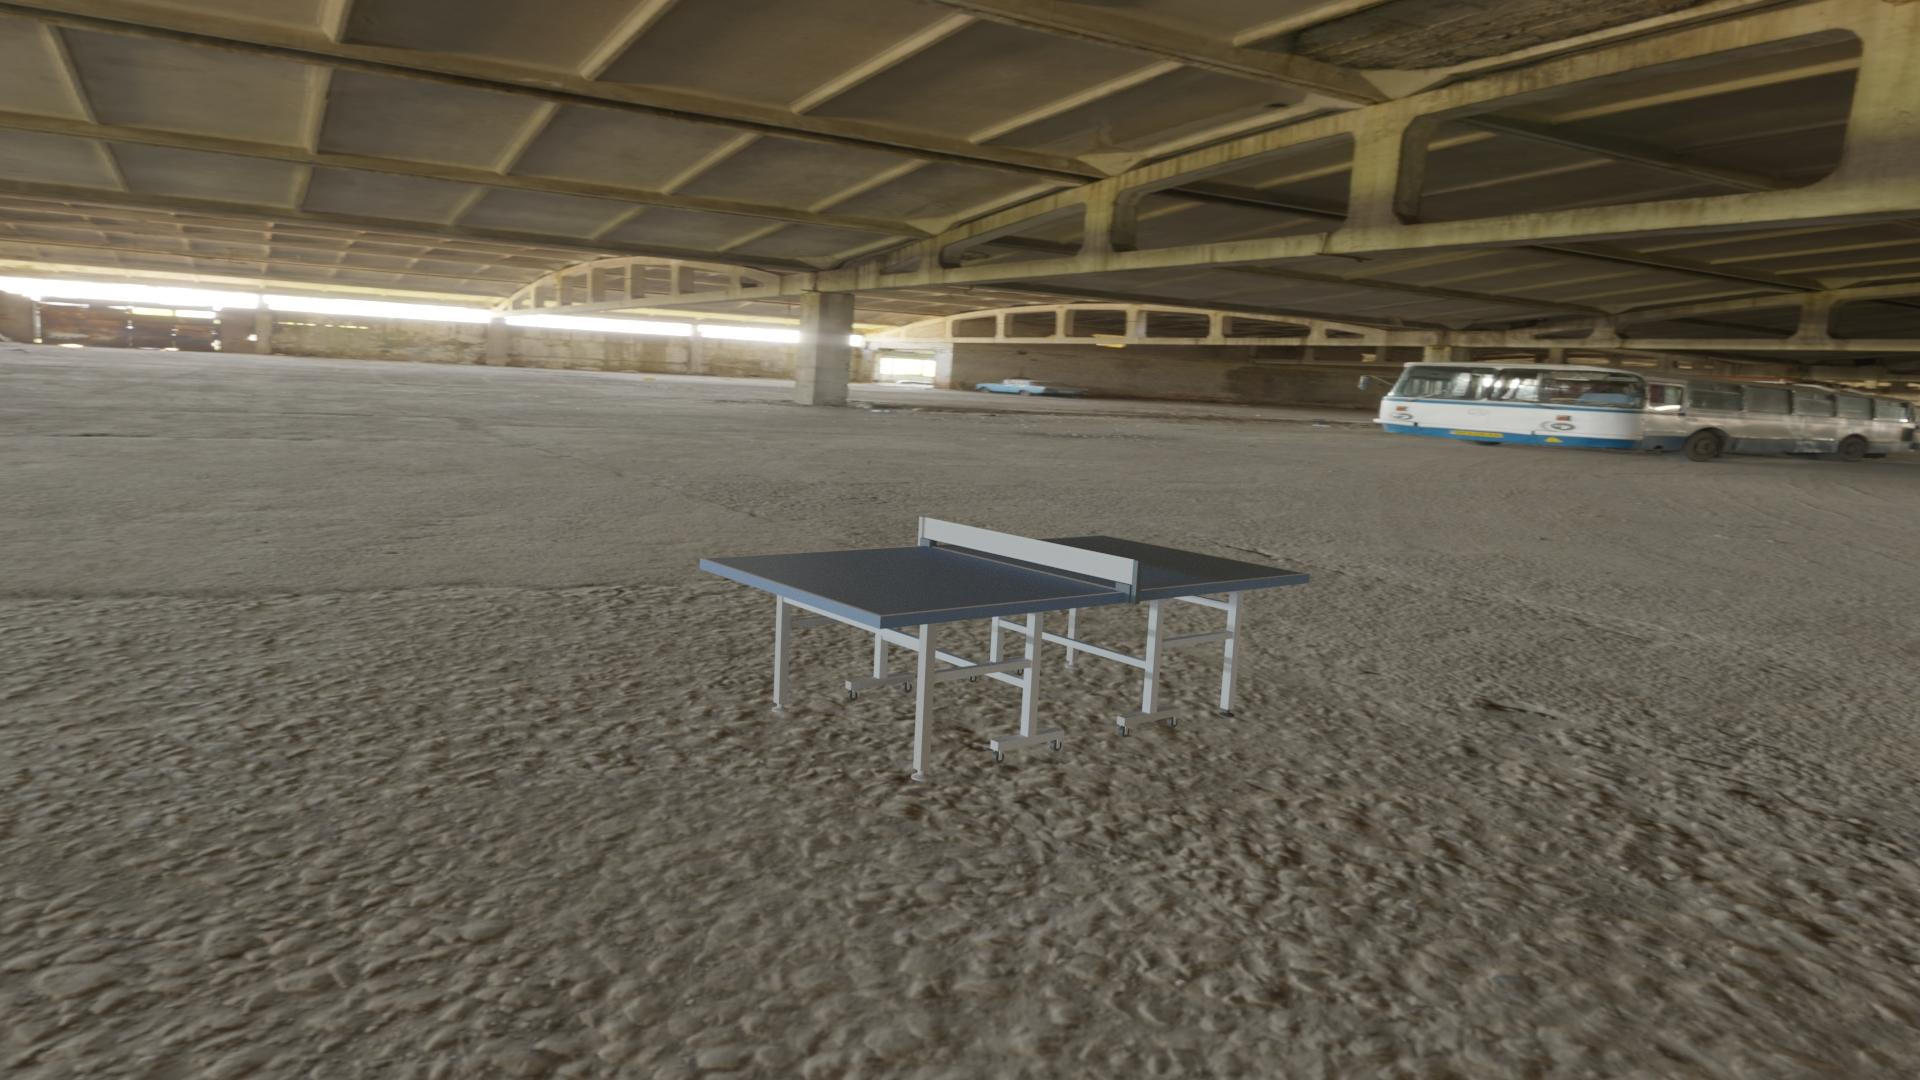table: (705, 535, 1304, 616)
